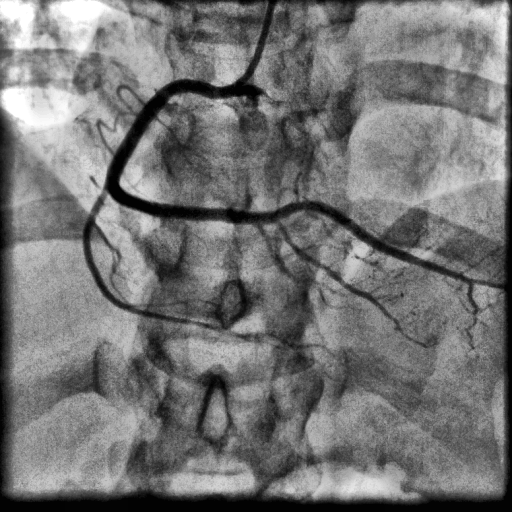pborca: (274, 201, 489, 286)
pda: (277, 221, 436, 347)
rca: (107, 79, 280, 225)
